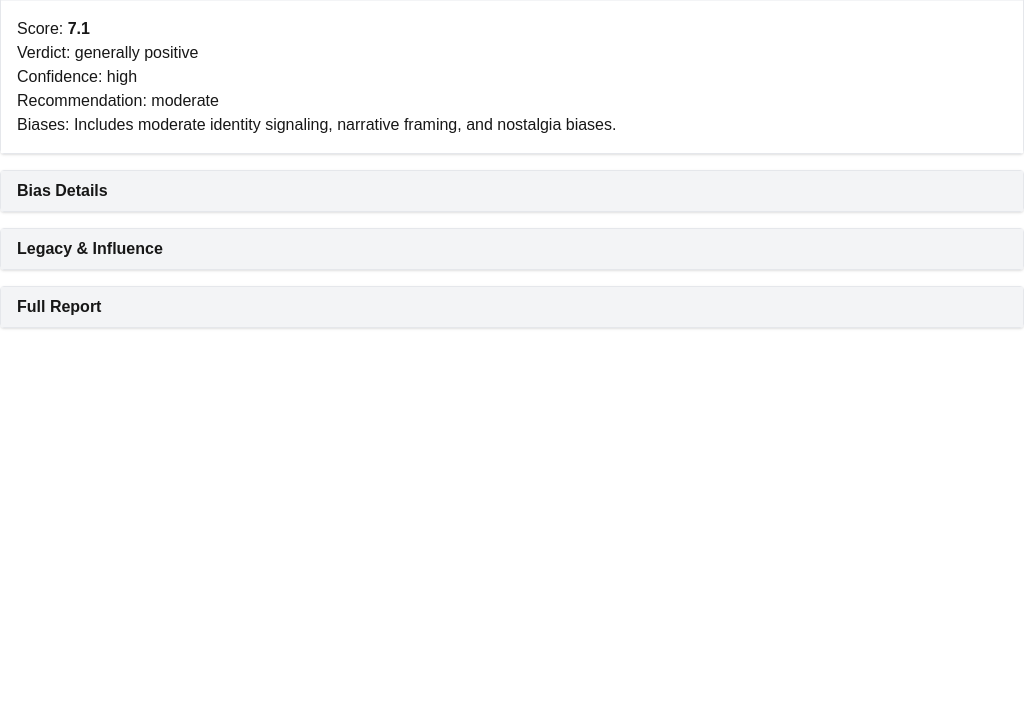
Test: BiasReportViewer › renders all output layers and toggles sections
This screenshot has width=1024, height=728.
Expected: the text "Score: 7.1" is shown, 17,20 -> 90,37
Note: Toggle details section
Click the button "Bias Details" at (62, 190), box 1,171 -> 1023,211
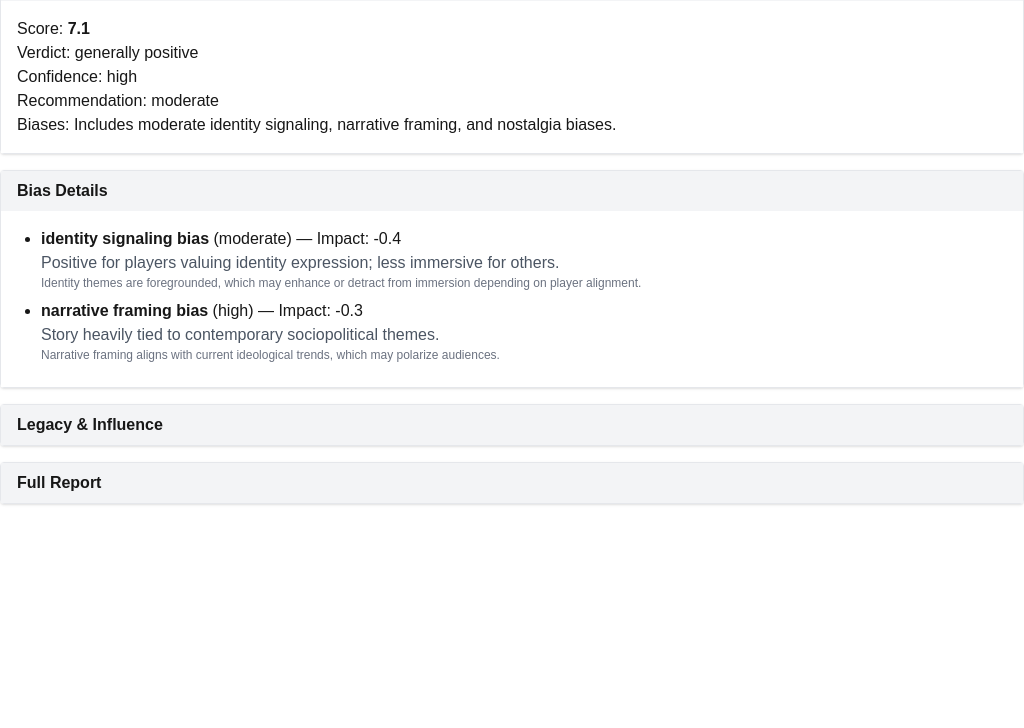
Expected: the button "Full Report" is shown, 1,463 -> 1023,503
Expected: the text "identity signaling bias" is shown, 41,230 -> 209,247
Note: Toggle context section
Click the button "Legacy & Influence" at (90, 424), box 1,405 -> 1023,445
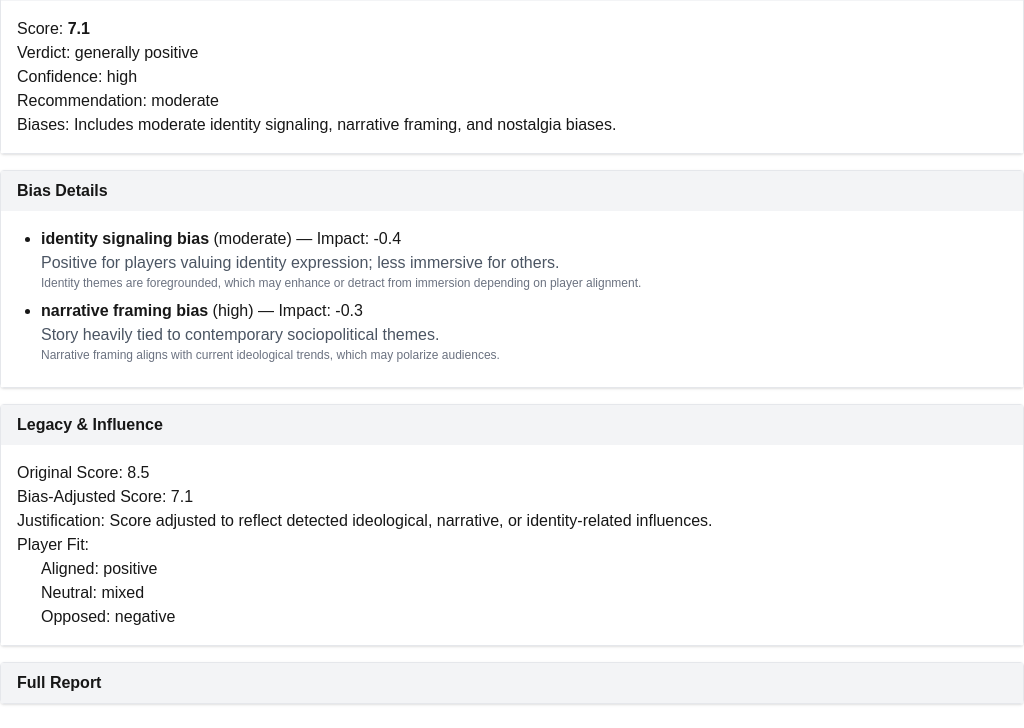
Expected: the text "Original Score: 8.5" is shown, 17,464 -> 150,481
Note: Toggle full report
Click the button "Full Report" at (59, 682), box 1,663 -> 1023,703
(page scrolled)
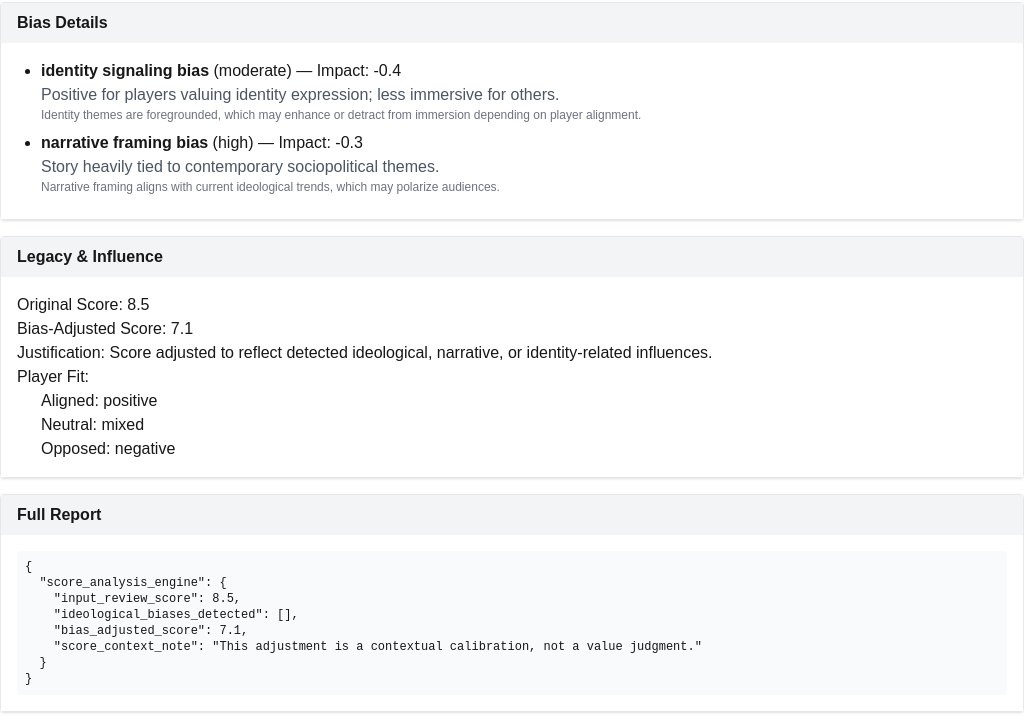
Expected: the text "score_analysis_engine" is shown, 25,560 -> 702,686
